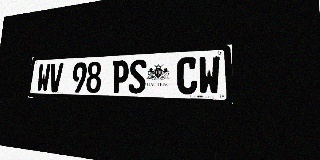8: (86, 61, 102, 93)
9: (71, 62, 87, 93)
C: (177, 57, 198, 94)
P: (111, 60, 129, 93)
S: (128, 59, 147, 94)
V: (48, 63, 63, 92)
W: (198, 56, 220, 95), (36, 64, 51, 92)
